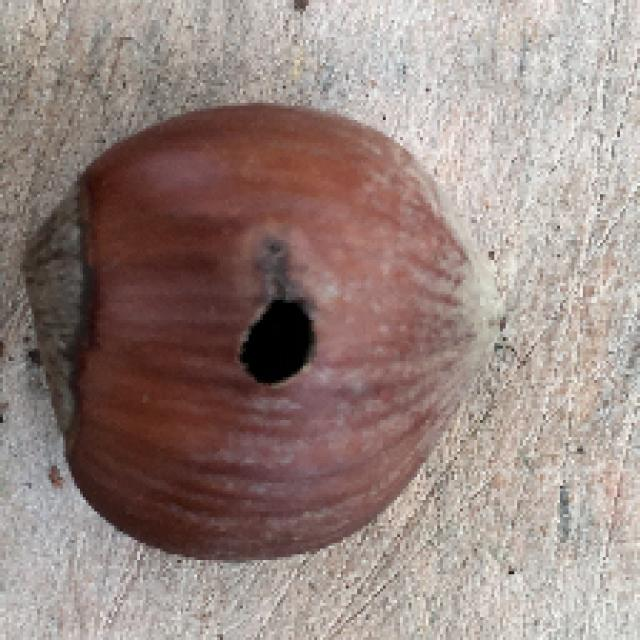damagedHazelnut: (25, 96, 496, 572)
